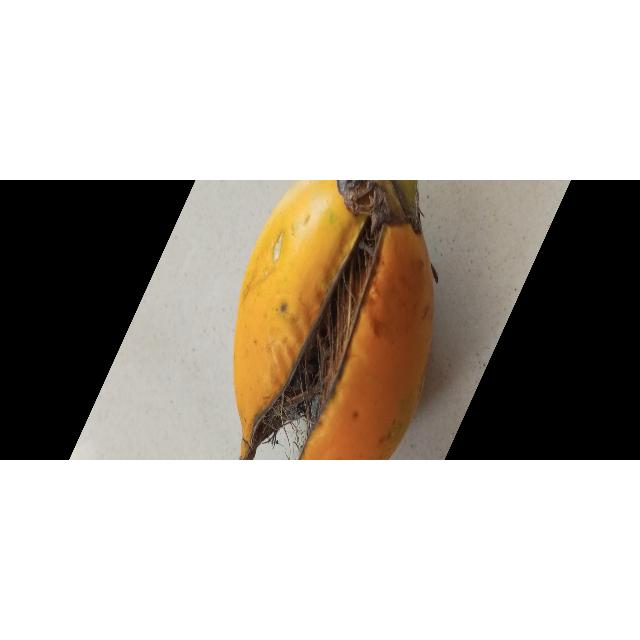damaged: (231, 180, 435, 461)
